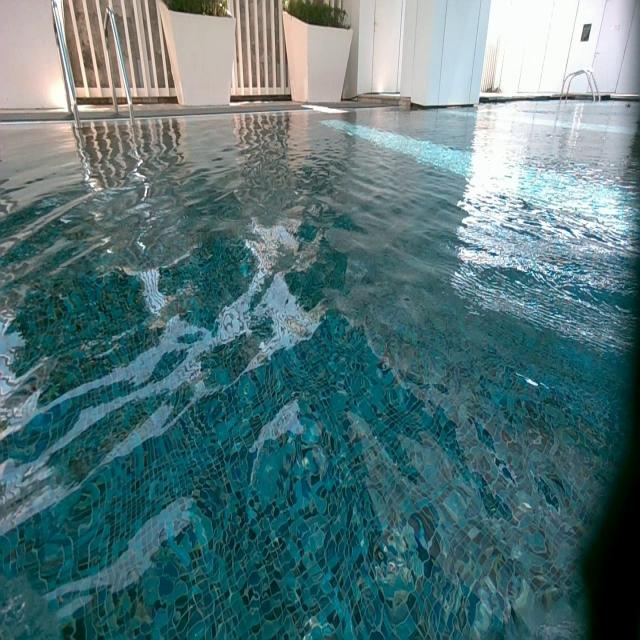Cans: (625, 104, 632, 110)
